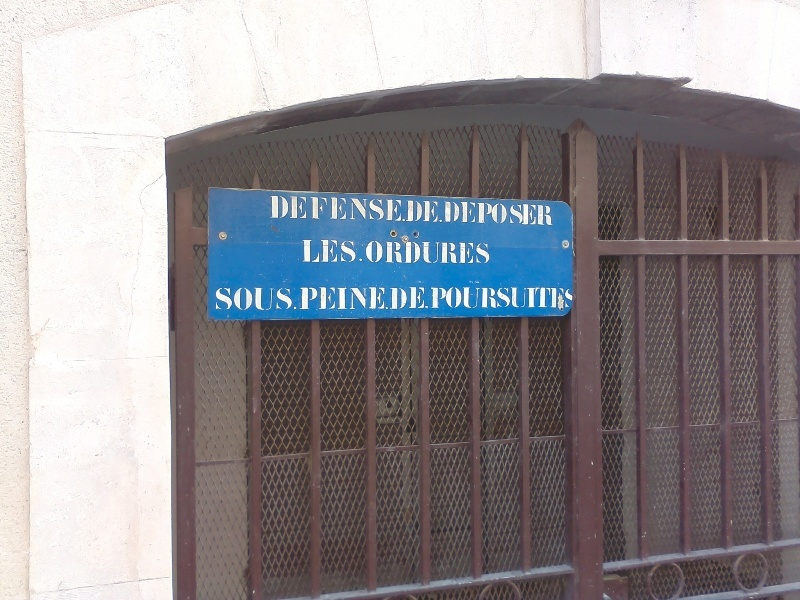text: (273, 194, 288, 222), (289, 194, 304, 222), (305, 194, 320, 222), (321, 194, 336, 222), (337, 194, 352, 222), (353, 194, 368, 222), (369, 194, 384, 222), (385, 194, 400, 222), (417, 199, 432, 224), (449, 201, 464, 226), (465, 201, 480, 226), (481, 201, 496, 226), (497, 201, 512, 226), (513, 201, 528, 226), (529, 201, 544, 226), (225, 286, 240, 311), (241, 286, 256, 311), (257, 286, 272, 311), (273, 286, 288, 311), (305, 239, 320, 263), (321, 239, 336, 263), (337, 239, 352, 263), (369, 241, 384, 265), (385, 241, 400, 265), (401, 241, 416, 265), (417, 241, 432, 265), (433, 241, 448, 265), (449, 241, 464, 265), (465, 241, 480, 265), (305, 287, 320, 311), (321, 287, 336, 311), (337, 287, 352, 311), (353, 287, 368, 311), (369, 287, 384, 311), (401, 286, 416, 310), (433, 286, 448, 310), (449, 286, 464, 310), (465, 286, 480, 310), (481, 286, 496, 310), (497, 286, 512, 310), (513, 286, 528, 310), (529, 286, 544, 310), (545, 286, 560, 310), (417, 286, 431, 310), (561, 286, 575, 310), (433, 199, 444, 224), (481, 241, 492, 265), (353, 239, 363, 263), (390, 286, 400, 310), (407, 199, 416, 224), (545, 201, 554, 226), (289, 286, 298, 311), (216, 286, 224, 311), (401, 194, 407, 222), (385, 287, 390, 311), (300, 287, 304, 311), (445, 201, 448, 226), (301, 239, 304, 263), (365, 241, 368, 265), (270, 194, 272, 222)
